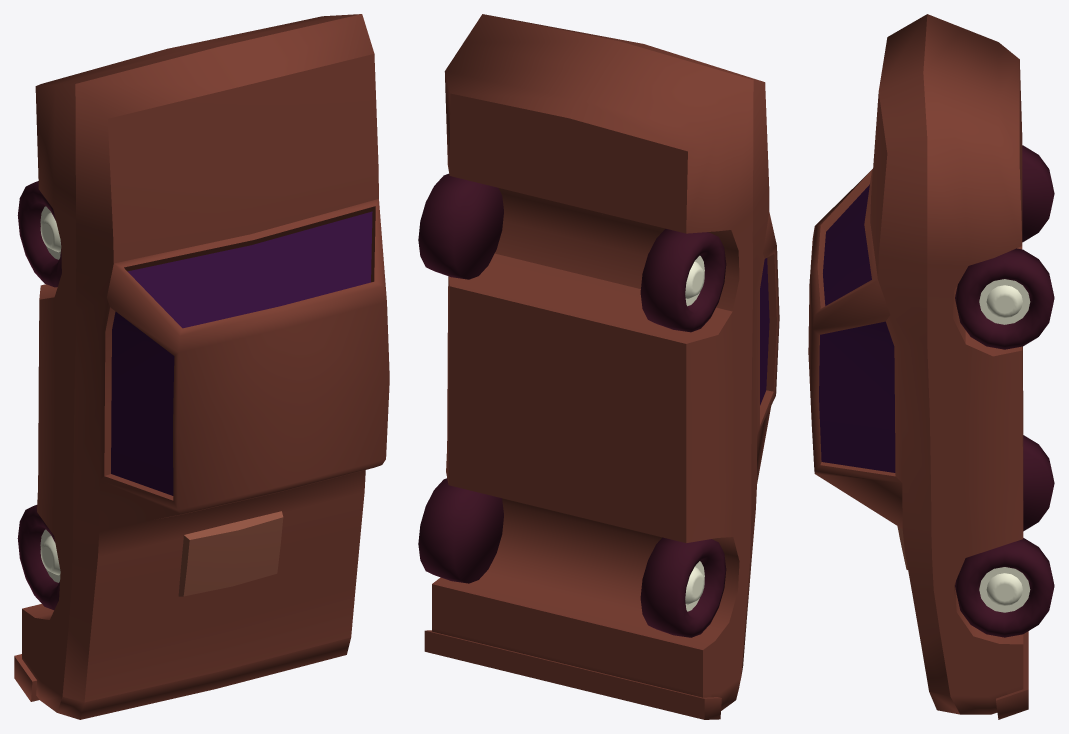
Rendered from Car.fbx.
3 views of the same model, side by side, from view 1: azimuth 30°, elevation 25°; view 2: azimuth 150°, elevation 25°; view 3: azimuth 270°, elevation 25° (orthographic). The views are drawn at different scales.
Parts seen in each view (by area): view 1: Cube.040, Cylinder.009, Cylinder.008; view 2: Cube.040, Cylinder.009, Cylinder.011, Cylinder.008, Cylinder.010; view 3: Cube.040, Cylinder.011, Cylinder.010, Cylinder.009, Cylinder.008.
Part boxes in pixels (box(x1,y1,x2,y2)): Cube.040: box(14, 14, 389, 719); Cylinder.009: box(17, 181, 61, 287); Cylinder.008: box(17, 505, 60, 609); Cube.040: box(424, 14, 779, 719); Cylinder.009: box(640, 228, 726, 332); Cylinder.011: box(418, 173, 503, 279); Cylinder.008: box(640, 537, 726, 637); Cylinder.010: box(418, 478, 503, 583); Cube.040: box(808, 14, 1028, 719); Cylinder.011: box(955, 248, 1054, 349); Cylinder.010: box(955, 538, 1054, 637); Cylinder.009: box(1022, 145, 1054, 242); Cylinder.008: box(1023, 435, 1054, 531).
Bounding box in the file's own units: 2.55 × 5.35 × 2.05.
